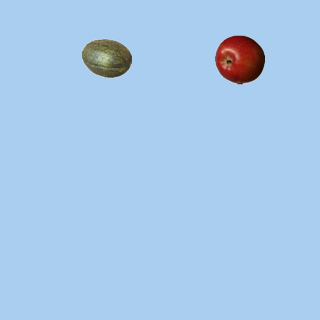Apple Braeburn: (214, 34, 264, 84)
Melon Piel de Sapo: (81, 33, 131, 83)
